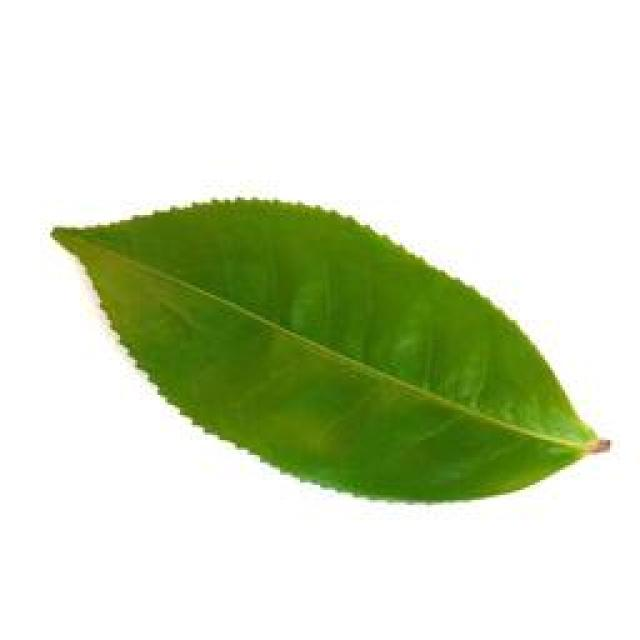Healthy: (53, 193, 611, 507)
